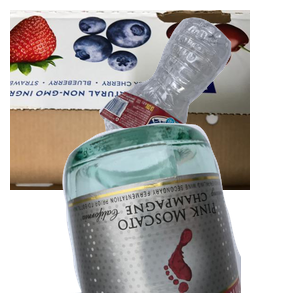cardboard: (10, 10, 250, 190)
glass: (60, 120, 300, 300)
plastic: (96, 15, 300, 184)
trash: (99, 155, 268, 300)
